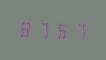eight: (18, 18, 34, 39)
seven: (69, 20, 85, 41), (35, 19, 51, 39)
six: (52, 19, 68, 40)
